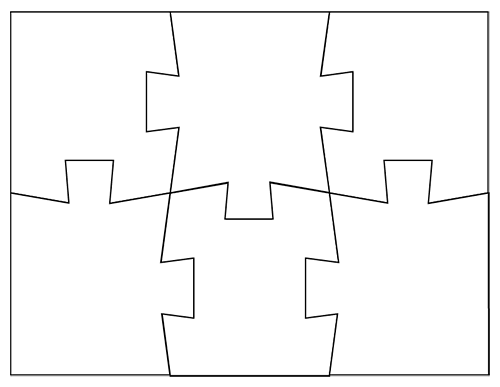puzzle piece: (138, 3, 368, 226)
